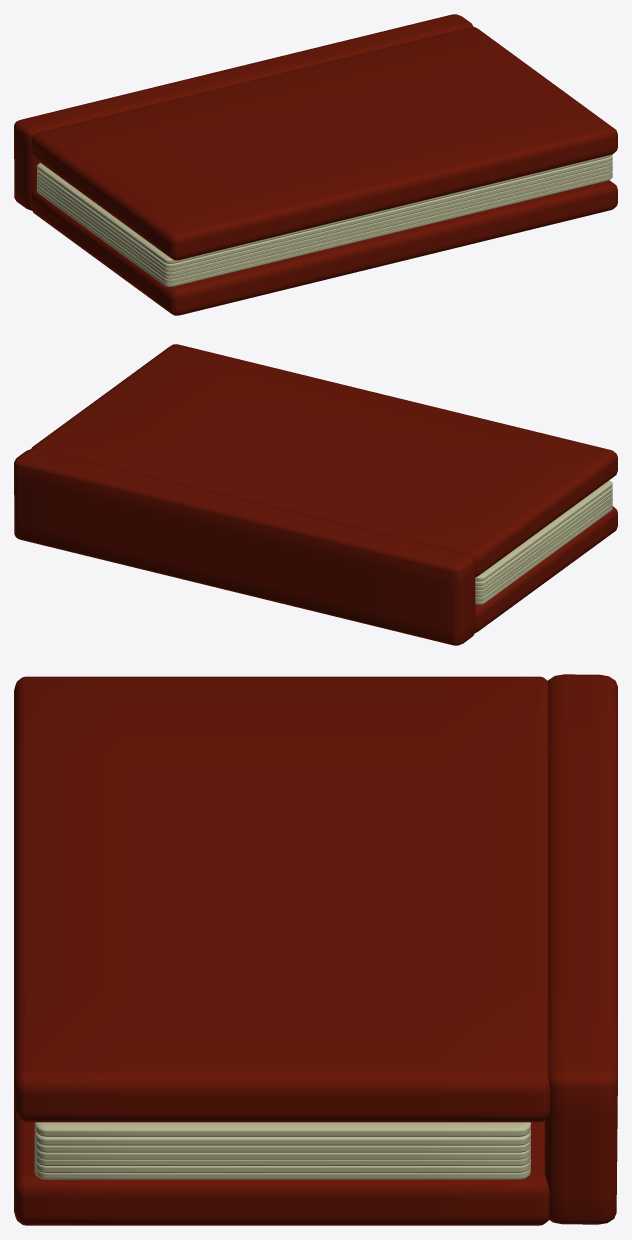
Rendered from book2.FBX.
The picture shows the model from 3 angles, top to bottom: view 1: azimuth 30°, elevation 25°; view 2: azimuth 150°, elevation 25°; view 3: azimuth 270°, elevation 25°; orthographic projection. The views are drawn at different scales.
Parts seen in each view (by area): view 1: ChamferBox003, ChamferBox002, ChamferBox001, ChamferBox008, ChamferBox009, ChamferBox010, ChamferBox006, ChamferBox005, ChamferBox004, ChamferBox007; view 2: ChamferBox003, ChamferBox001, ChamferBox002, ChamferBox010, ChamferBox008, ChamferBox009, ChamferBox006, ChamferBox005, ChamferBox007, ChamferBox004; view 3: ChamferBox003, ChamferBox001, ChamferBox002, ChamferBox010, ChamferBox008, ChamferBox009, ChamferBox006, ChamferBox005, ChamferBox004, ChamferBox007.
Boxes of the visible parts, bbox=[...] form: ChamferBox003: bbox=[31, 27, 617, 260]; ChamferBox002: bbox=[31, 180, 617, 315]; ChamferBox001: bbox=[14, 14, 473, 210]; ChamferBox008: bbox=[37, 155, 612, 268]; ChamferBox009: bbox=[37, 160, 612, 272]; ChamferBox010: bbox=[37, 154, 612, 263]; ChamferBox006: bbox=[37, 163, 612, 275]; ChamferBox005: bbox=[37, 171, 612, 283]; ChamferBox004: bbox=[37, 174, 612, 286]; ChamferBox007: bbox=[37, 167, 612, 279]; ChamferBox003: bbox=[31, 344, 617, 577]; ChamferBox001: bbox=[14, 448, 475, 645]; ChamferBox002: bbox=[475, 506, 617, 632]; ChamferBox010: bbox=[475, 480, 612, 581]; ChamferBox008: bbox=[475, 487, 612, 586]; ChamferBox009: bbox=[475, 491, 612, 589]; ChamferBox006: bbox=[475, 495, 612, 593]; ChamferBox005: bbox=[475, 502, 612, 600]; ChamferBox007: bbox=[475, 498, 612, 597]; ChamferBox004: bbox=[475, 506, 612, 604]; ChamferBox003: bbox=[14, 676, 549, 1122]; ChamferBox001: bbox=[544, 674, 617, 1224]; ChamferBox002: bbox=[14, 1109, 549, 1225]; ChamferBox010: bbox=[34, 1122, 530, 1136]; ChamferBox008: bbox=[34, 1130, 530, 1145]; ChamferBox009: bbox=[34, 1138, 530, 1152]; ChamferBox006: bbox=[34, 1146, 530, 1159]; ChamferBox005: bbox=[34, 1159, 530, 1172]; ChamferBox004: bbox=[34, 1166, 530, 1179]; ChamferBox007: bbox=[34, 1153, 530, 1165].
Bounding box in the file's own units: 26.73 × 4.68 × 16.72.
